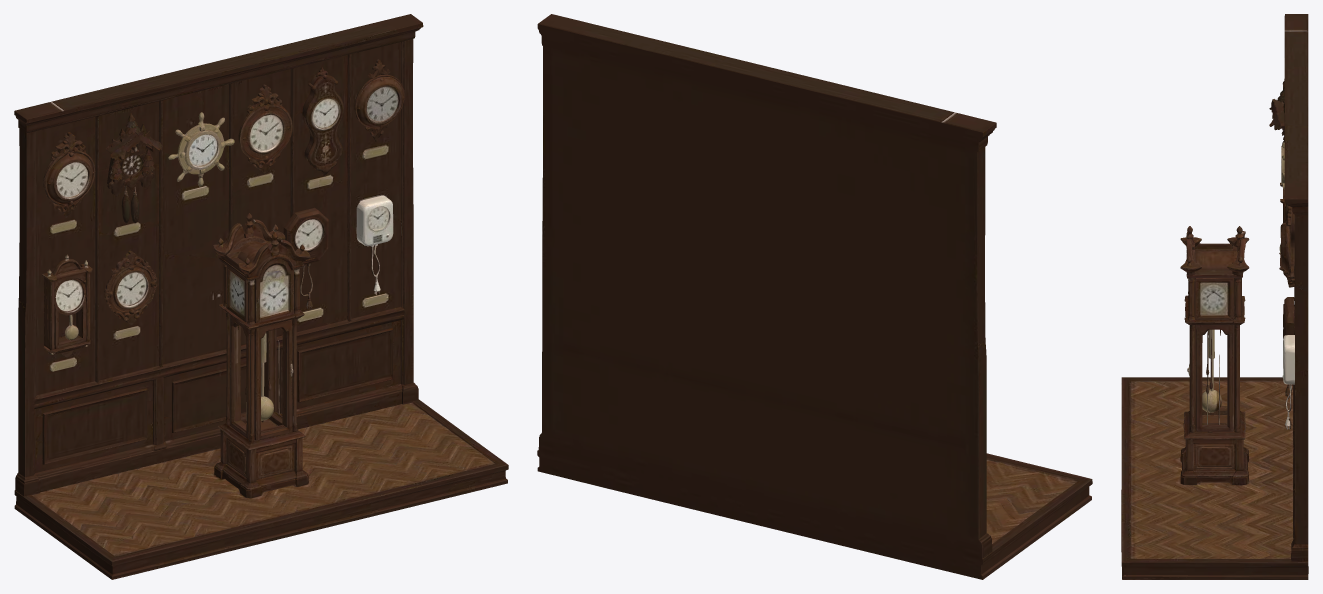
Rendered from REL_B.glb.
3 renders of one model, left to right at view 1: azimuth 30°, elevation 25°; view 2: azimuth 150°, elevation 25°; view 3: azimuth 270°, elevation 25°, orthographic. The views are drawn at different scales.
Parts seen in each view (by area): view 1: escala_real; view 2: escala_real; view 3: escala_real.
Part boxes in pixels (x1,y1,x2,y2): escala_real: (14, 14, 508, 579); escala_real: (537, 14, 1092, 579); escala_real: (1121, 14, 1308, 579).
Bounding box in the file's own units: 3.6 × 3.45 × 1.54.
1 material, 1 textured.
